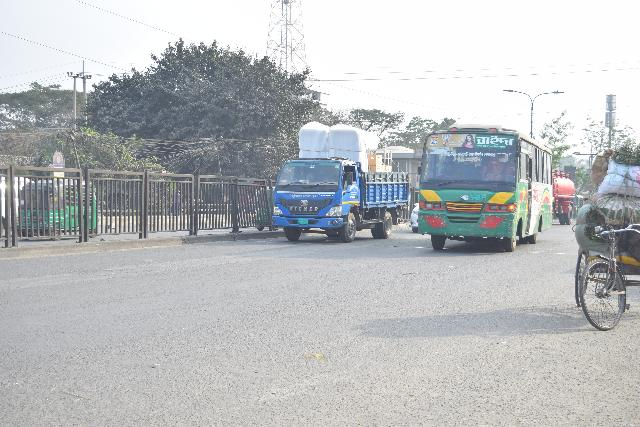bus: (420, 122, 551, 256)
truck: (271, 120, 407, 250), (551, 170, 581, 227)
